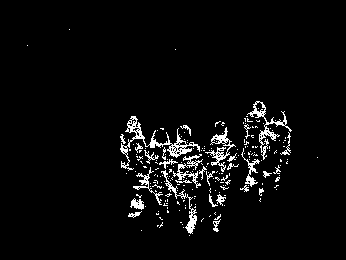person: (165, 122, 206, 236), (202, 119, 239, 233), (118, 113, 151, 222), (257, 110, 290, 200), (239, 100, 270, 194), (145, 125, 173, 229)
